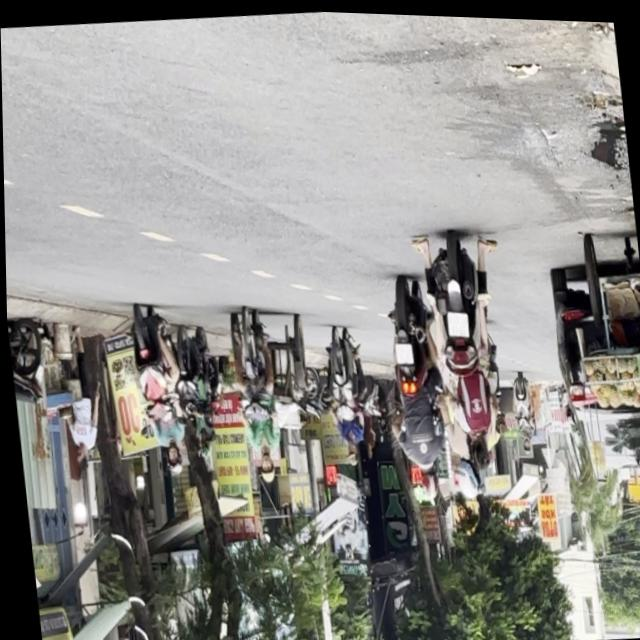helmet: (450, 448, 478, 496), (414, 464, 436, 498), (160, 442, 180, 474), (254, 449, 273, 482)
licenseplate: (416, 224, 514, 495), (375, 270, 450, 501), (121, 296, 188, 478), (220, 301, 284, 484)
motorcyclist: (466, 430, 488, 470)
nohelmet: (444, 304, 467, 335), (392, 340, 410, 362)
